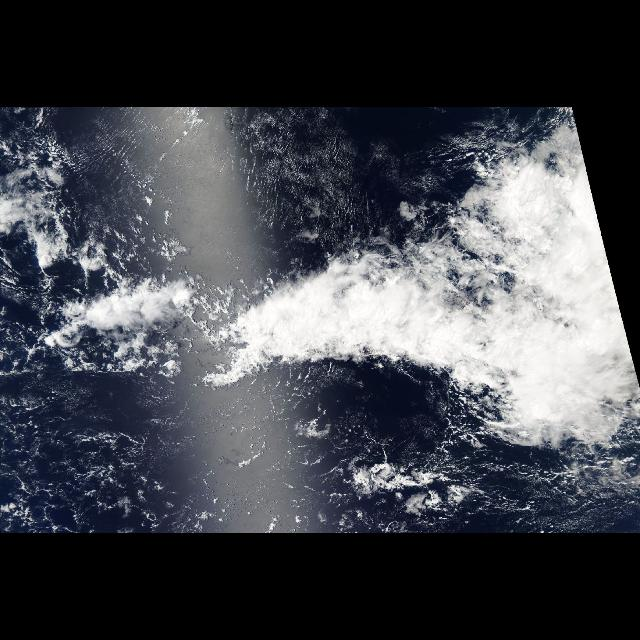Gravel: (0, 399, 192, 533)
Sugar: (12, 380, 340, 528), (70, 113, 436, 240)
